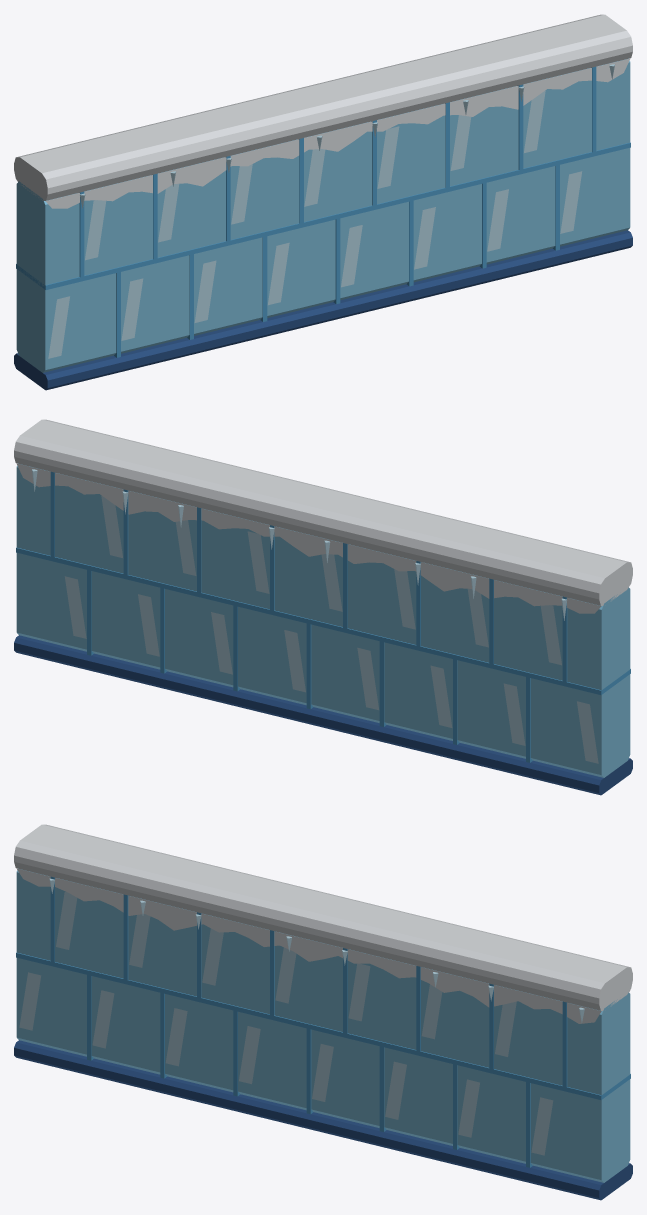
File: ice-plotwall2.glb
3 views of the same model, one above another, from view 1: azimuth 30°, elevation 25°; view 2: azimuth 150°, elevation 25°; view 3: azimuth 330°, elevation 25° (orthographic).
Visible parts, largest first — view 1: ice-plotwall2; view 2: ice-plotwall2; view 3: ice-plotwall2.
Boxes of the visible parts, x1,y1,x2,y2 form: ice-plotwall2: (14,14,632,390); ice-plotwall2: (14,419,632,795); ice-plotwall2: (14,824,632,1200).
Size of the model in its own units: 4 by 1.4 by 0.4.
